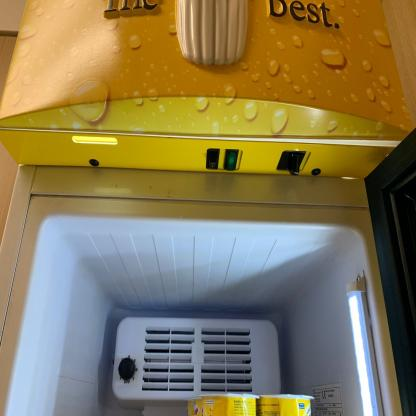pot: (189, 393, 316, 416)
